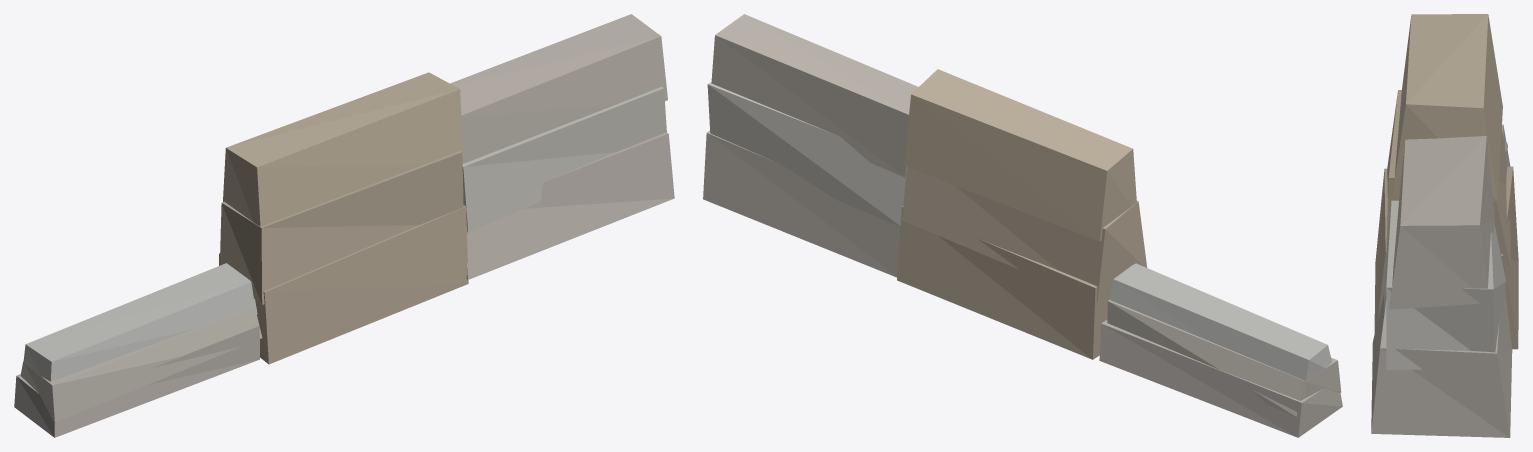
The model's file is farm_-19_-23_mid.glb.
The picture shows the model from 3 angles, left to right: view 1: azimuth 30°, elevation 25°; view 2: azimuth 150°, elevation 25°; view 3: azimuth 270°, elevation 25°; orthographic projection. The views are drawn at different scales.
Parts seen in each view (by area): view 1: geometry_0; view 2: geometry_0; view 3: geometry_0.
Part boxes in pixels (x1,y1,x2,y2): geometry_0: [14, 14, 674, 437]; geometry_0: [703, 14, 1342, 437]; geometry_0: [1371, 14, 1518, 437].
Size of the model in its own units: 4.8 by 1.91 by 0.7529.
